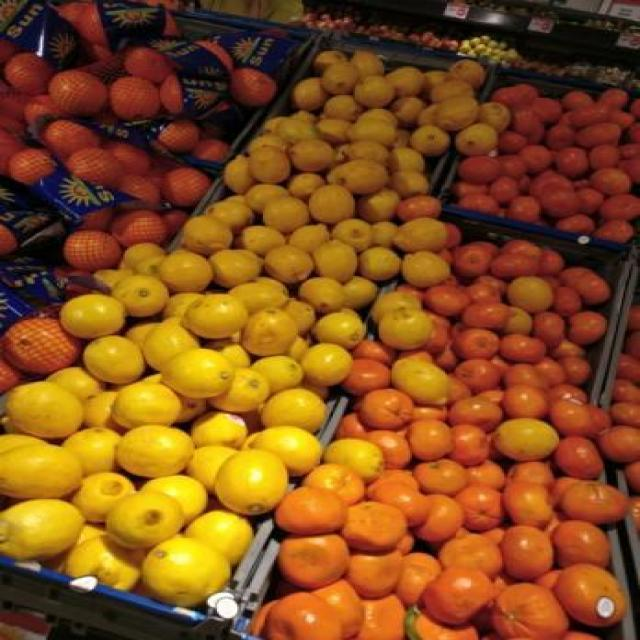Clementine: (431, 566, 499, 626), (502, 588, 568, 639), (500, 524, 560, 579), (353, 497, 412, 549), (412, 451, 476, 497), (454, 241, 494, 271)
